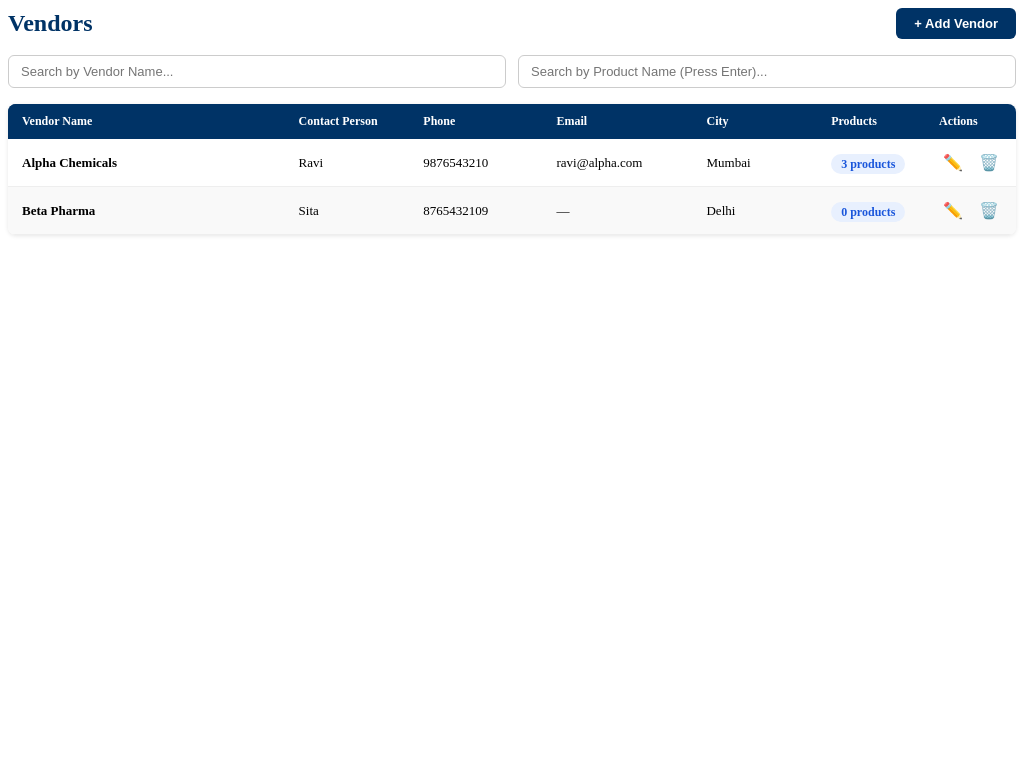
VendorMaster — products modal › opens product modal on vendor row click
The width and height of the screenshot is (1024, 768).
Click the text "Alpha Chemicals".
click(69, 162)  # box [8,139,285,186]
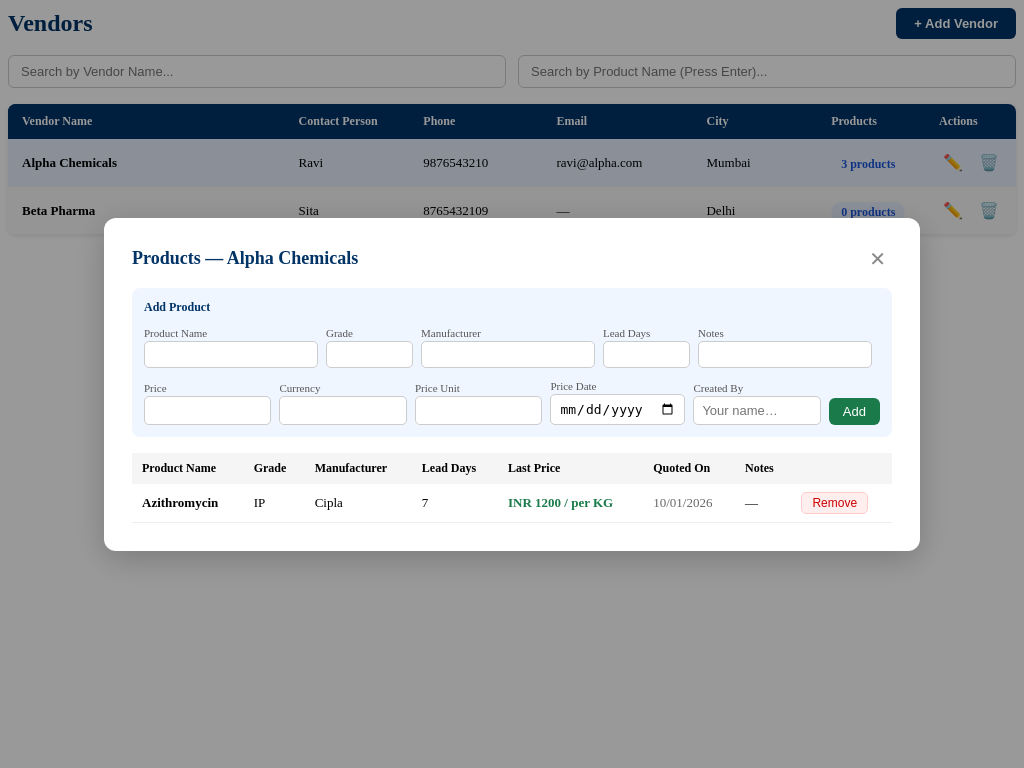
Expected: the heading "Products — Alpha Chemicals" is shown, [132,248,358,269]
Expected: the text "Azithromycin" is shown, [132,484,244,522]
